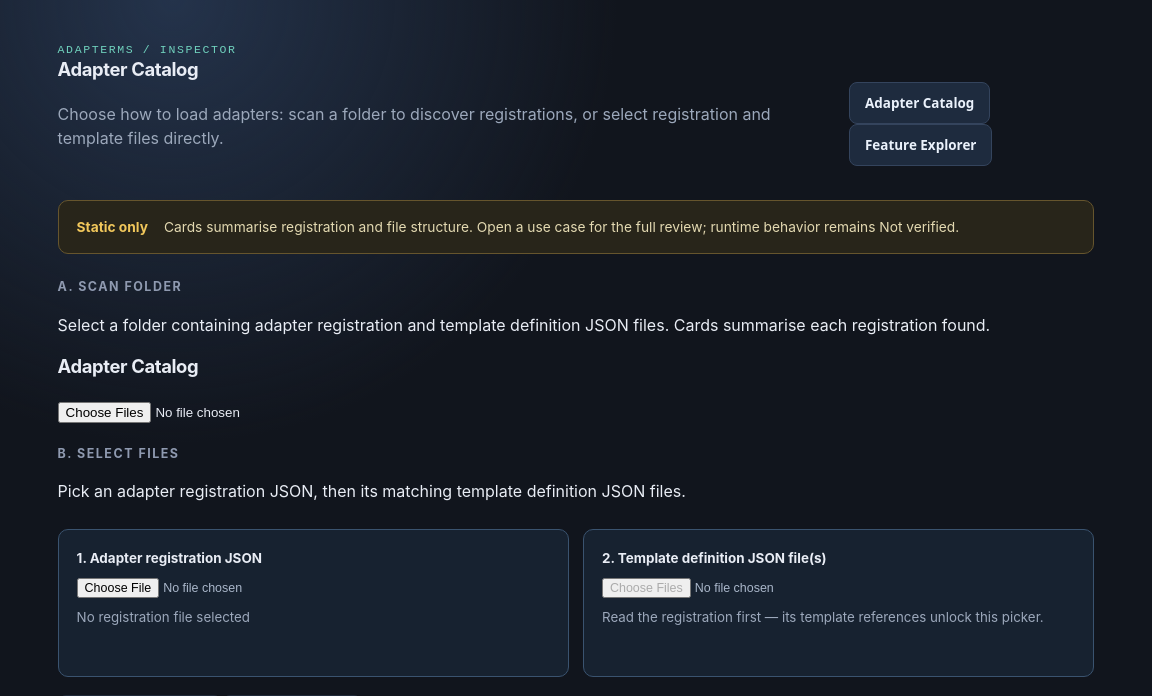
it: postman collection download › shows Download Postman Collection button in API MATRIX tab when endpoints exist
What coordinates should you click on to do the following:
click the tab "Feature Explorer"
I would click on:
 (921, 145)
Its box is [849,124,992,166].
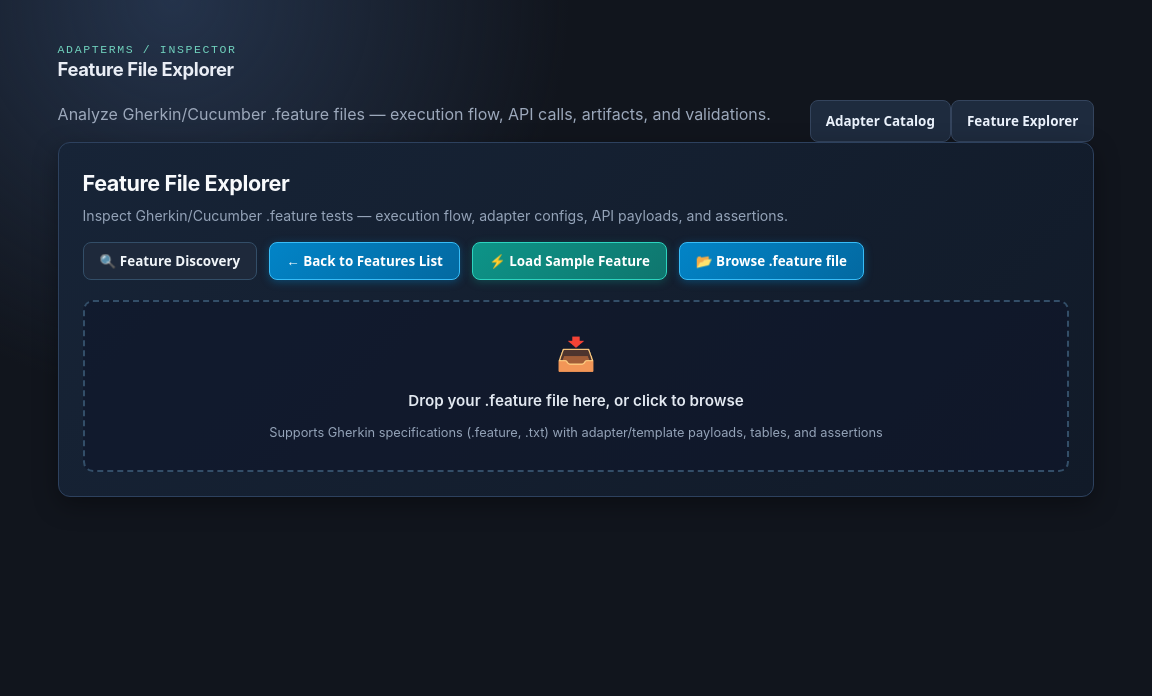
What coordinates should you click on to do the following:
click the button "⚡ Load Sample Feature"
I would click on:
 (569, 261)
Its box is [472,242,667,280].
(page scrolled)
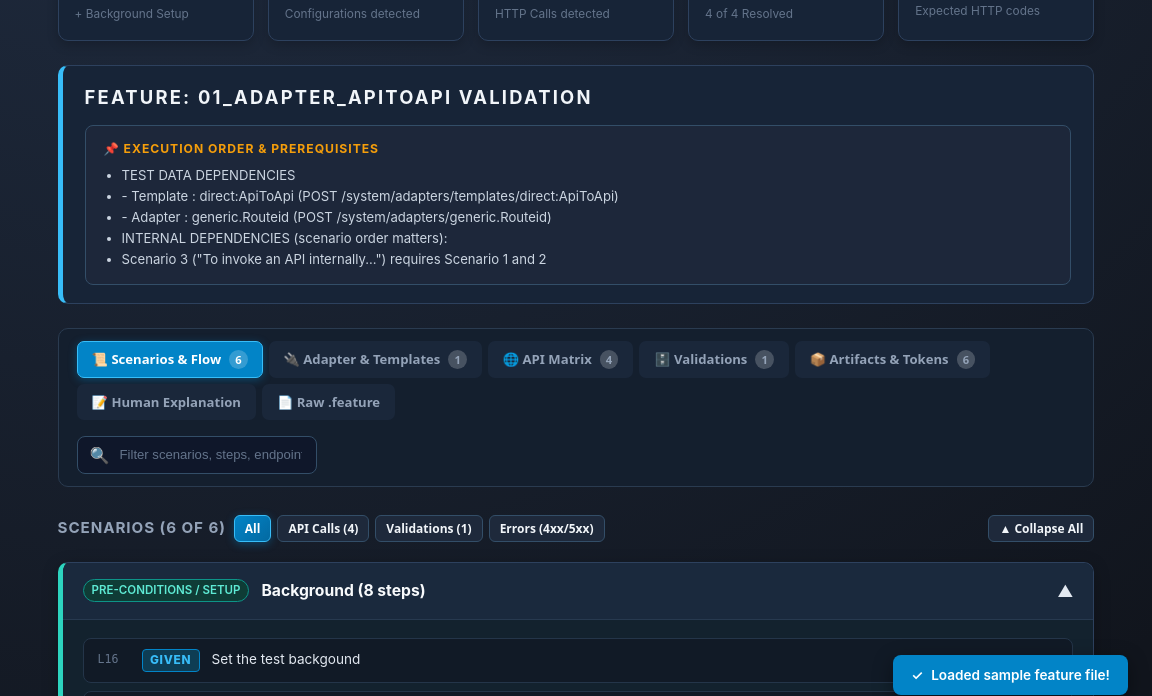
What coordinates should you click on to do the following:
click the tab "🌐 API Matrix 4"
I would click on:
 (561, 359)
Its box is [488,341,633,378].
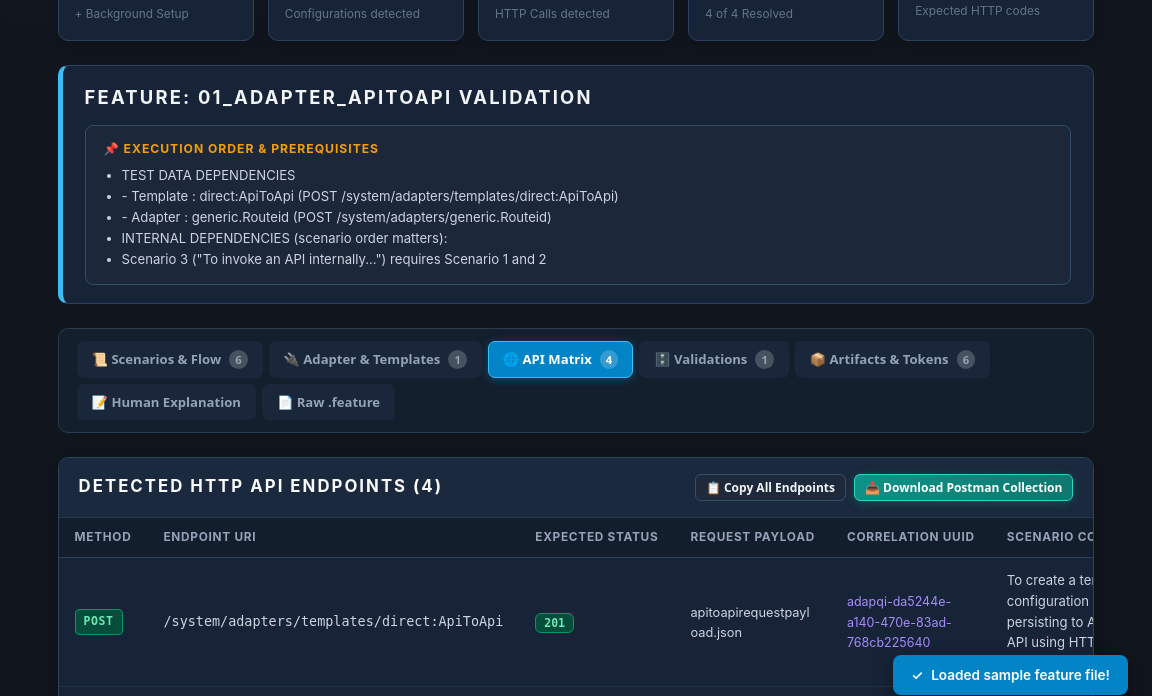
Now the button "📥 Download Postman Collection" is enabled, box [854,474,1073,501]
